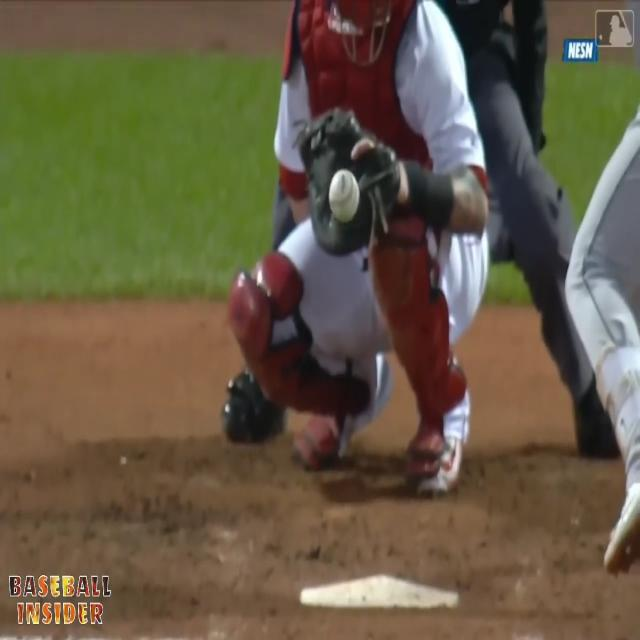baseball: (329, 168, 359, 222)
